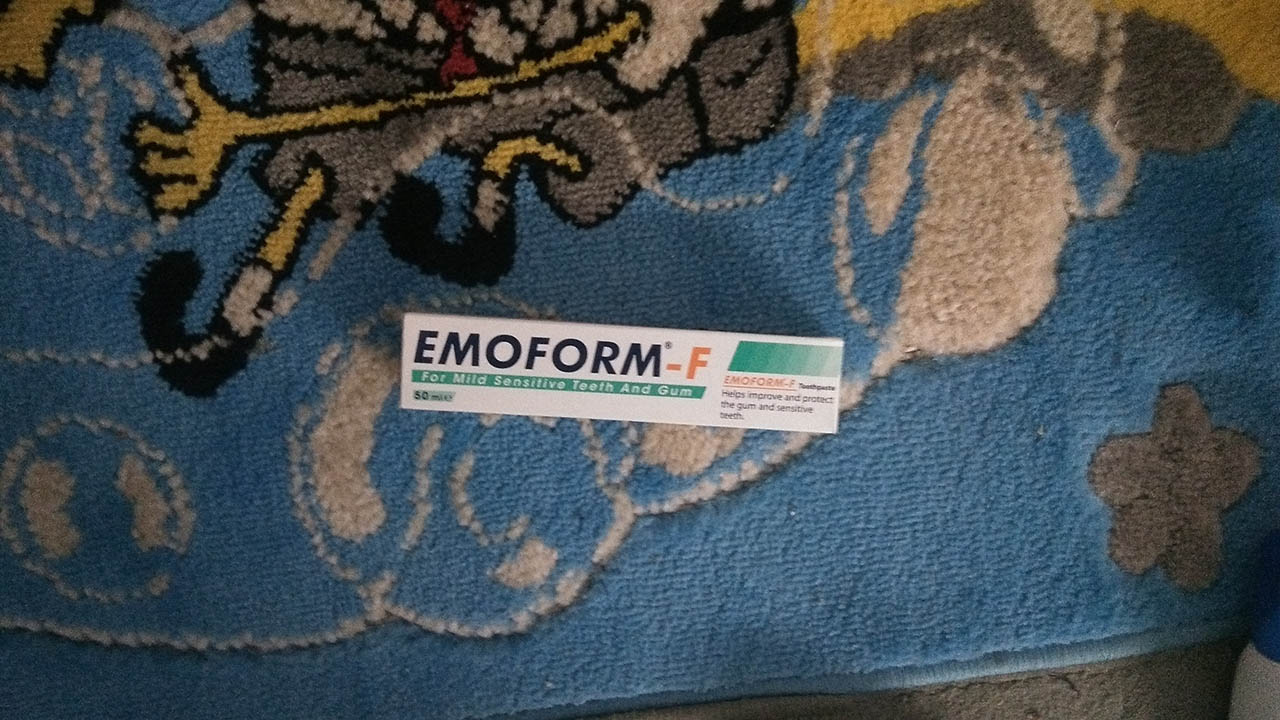Toothpaste-F 1.5$: (382, 306, 868, 464)
